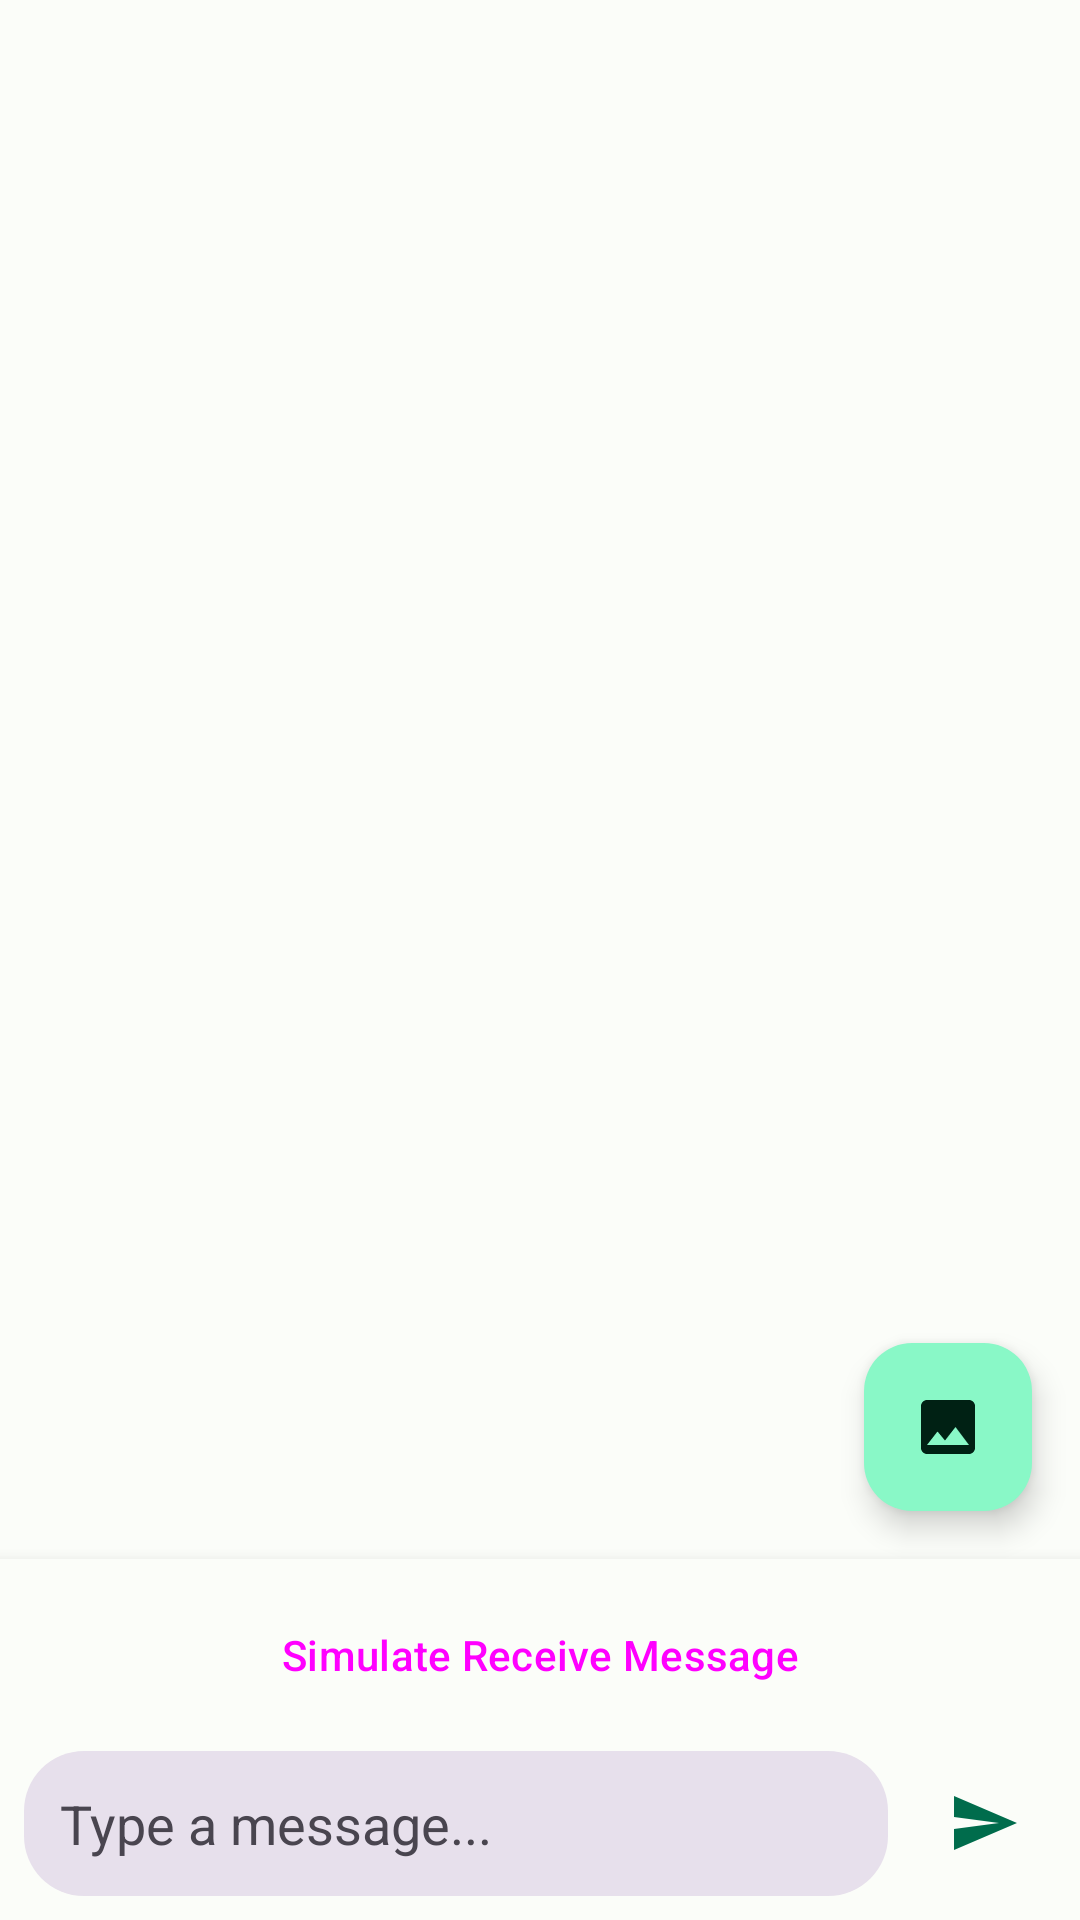

Icons on this 1080px×1920px Android screen, each with the point to tap as (x,y):
Send image: (948,1427)
Send message: (985,1823)
